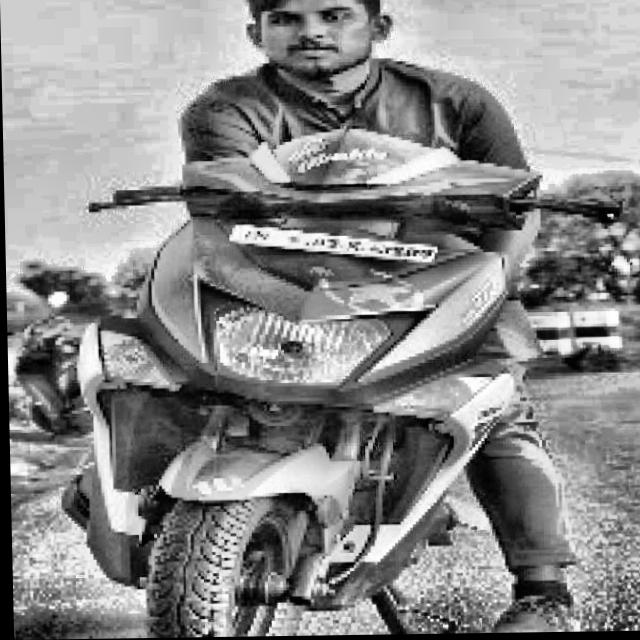motorcycle: (38, 121, 613, 640)
